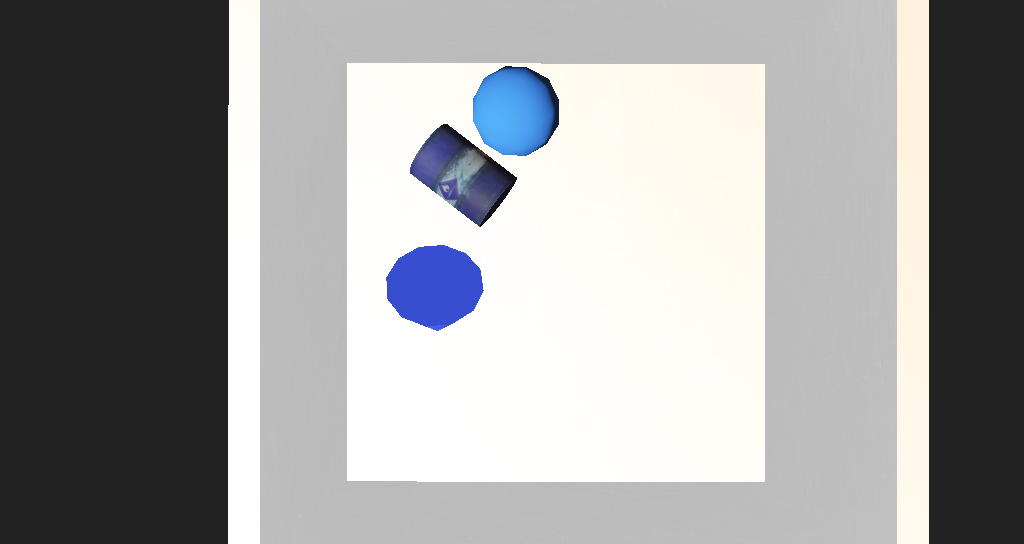cone: (397, 193, 478, 246)
cylinder: (377, 253, 458, 320)
sphere: (448, 162, 509, 210)
